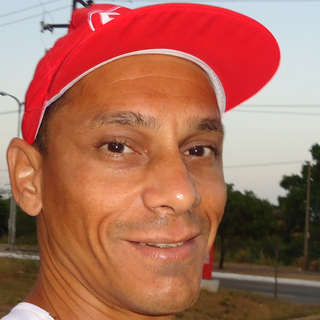eye: (91, 132, 148, 166), (176, 139, 223, 166)
